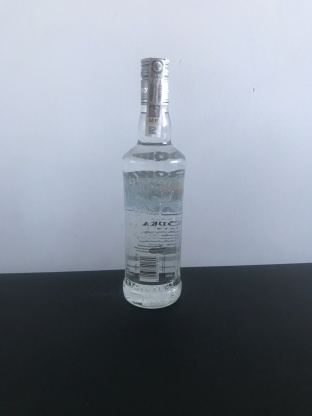nakretka: (138, 53, 172, 107)
